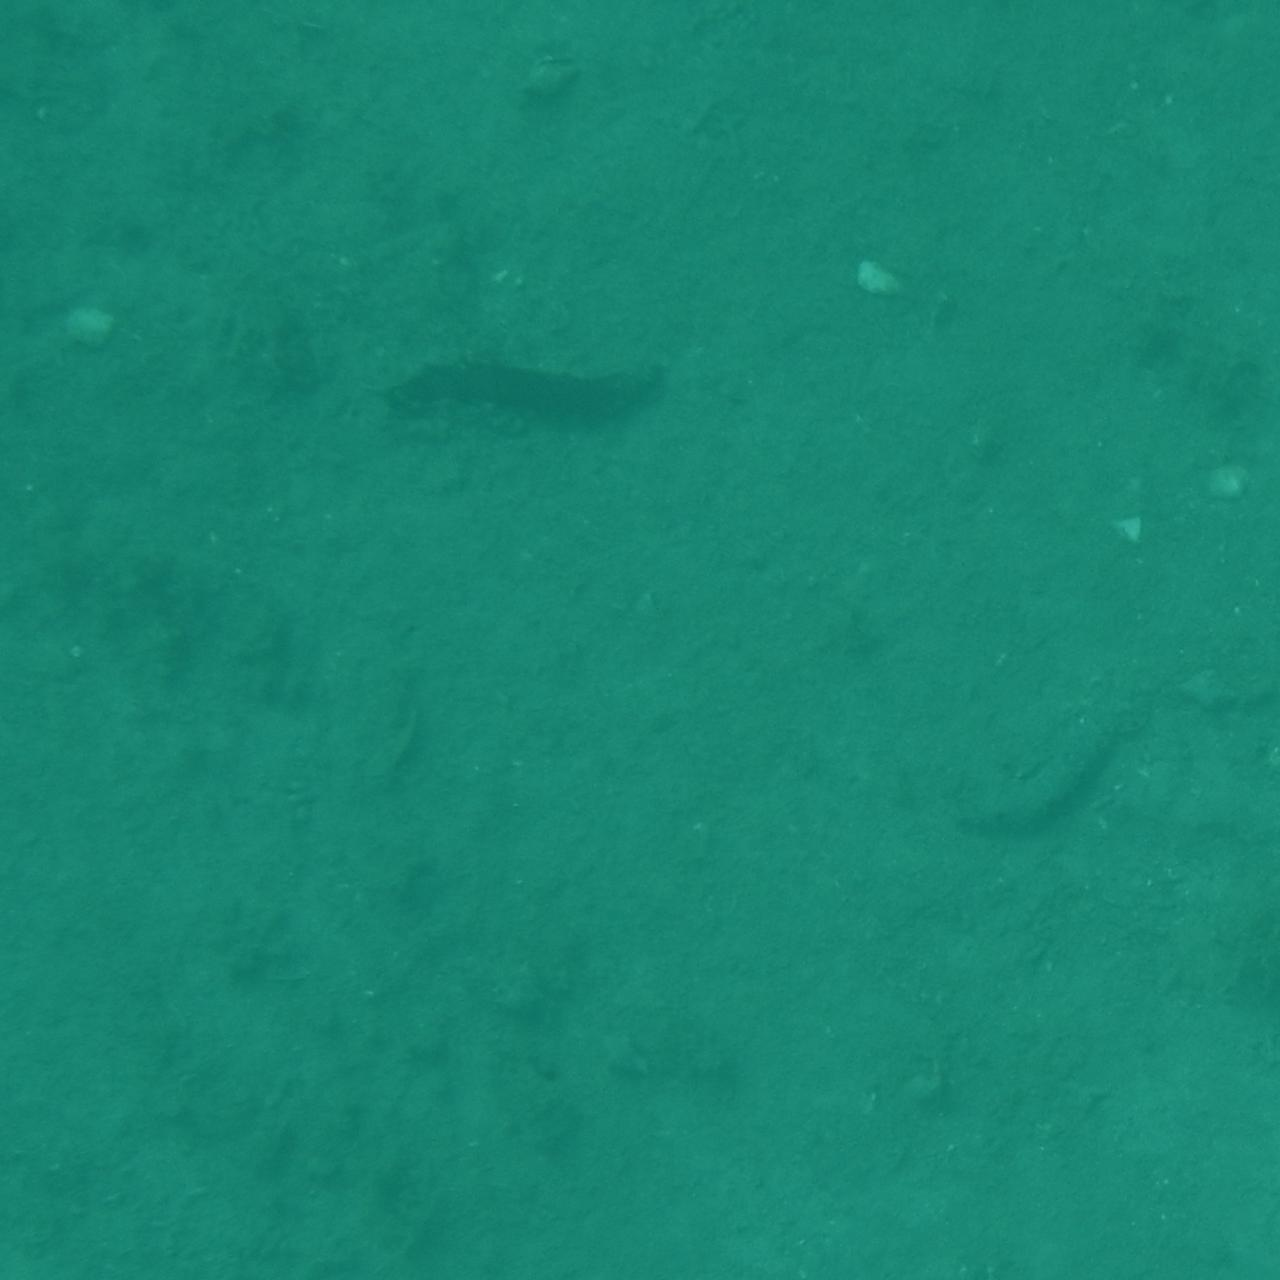Holothuria tubulosa: (374, 332, 690, 454), (951, 713, 1191, 847), (1175, 644, 1280, 847), (1126, 905, 1280, 1037), (0, 211, 68, 462), (1145, 0, 1280, 113), (0, 1055, 128, 1171), (658, 0, 765, 125), (1221, 938, 1280, 1151), (1205, 0, 1280, 154), (1224, 0, 1280, 196), (0, 1200, 135, 1280), (0, 1223, 116, 1280)
